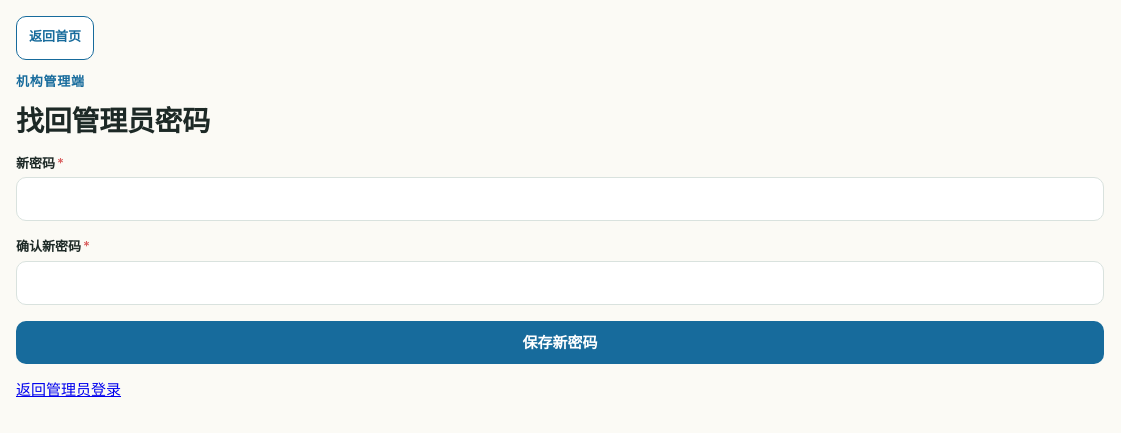
it: 管理员邮箱入口 › 重置密码校验两次输入，失效 token 错误可见
The width and height of the screenshot is (1121, 433).
Type "new-password" into the password field labelled "新密码*" at point(560, 199), box [16,177,1104,221]
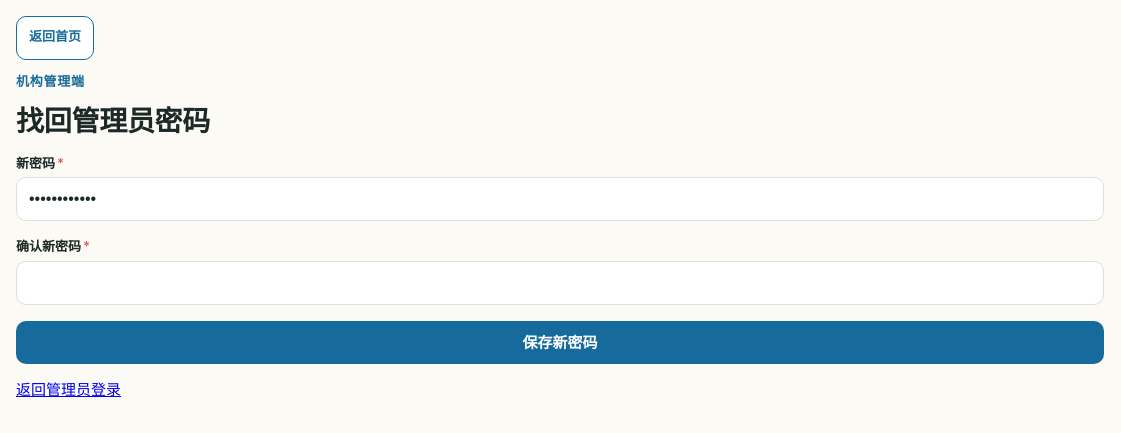
Click the button "保存新密码" at point(560, 342), box [16,320,1104,364]
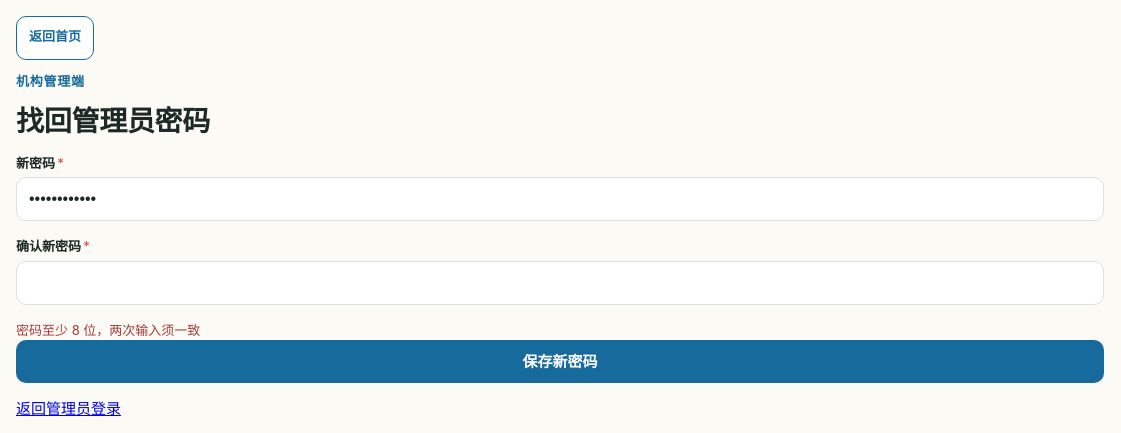
Type "new-password" into the password field labelled "确认新密码*" at point(560, 282), box [16,260,1104,304]
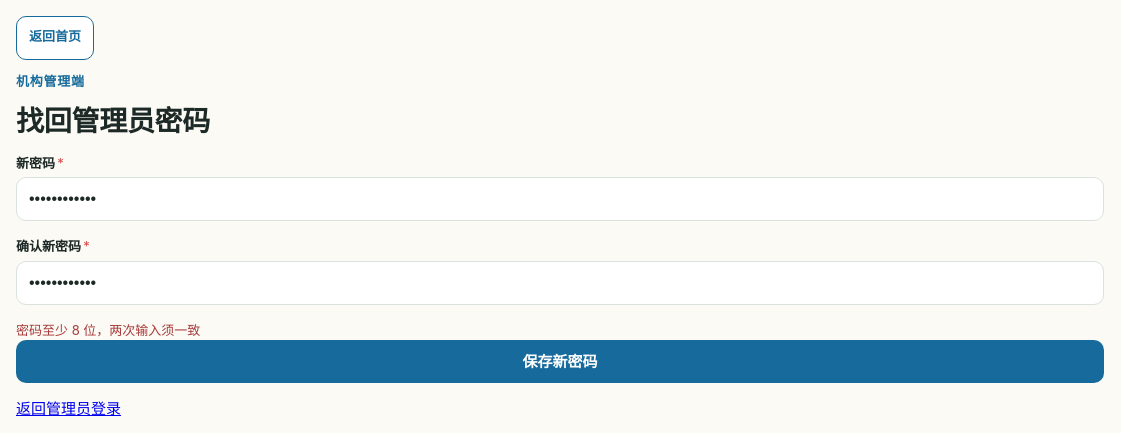
Click the button "保存新密码" at point(560, 362), box [16,340,1104,383]
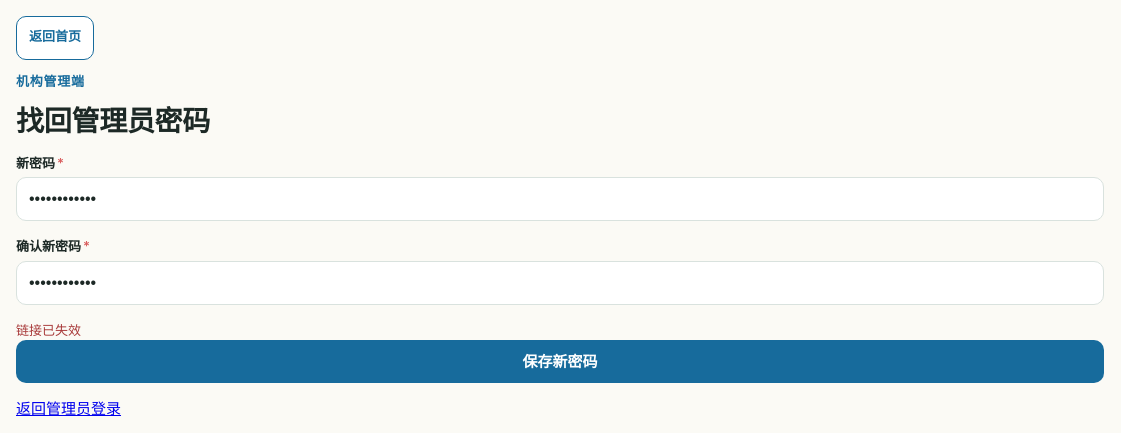
Expected: the message reads "链接已失效", [16,322,81,338]
